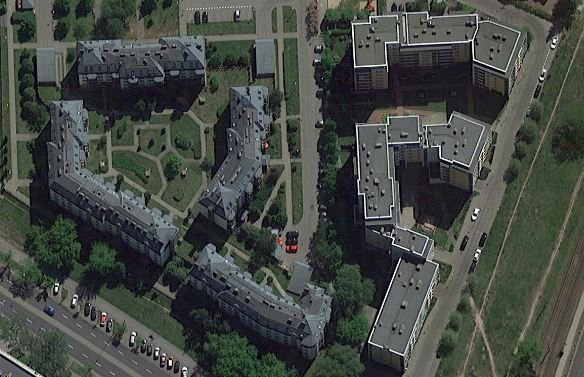block of flats: (348, 111, 500, 372), (39, 78, 186, 263), (337, 5, 537, 105), (185, 241, 337, 355), (193, 79, 286, 235), (66, 28, 222, 98)
